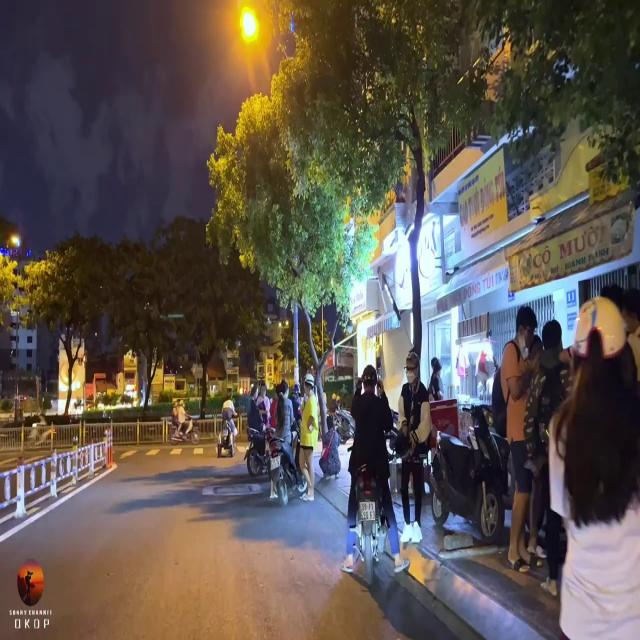bien_trang: (358, 502, 376, 523)
